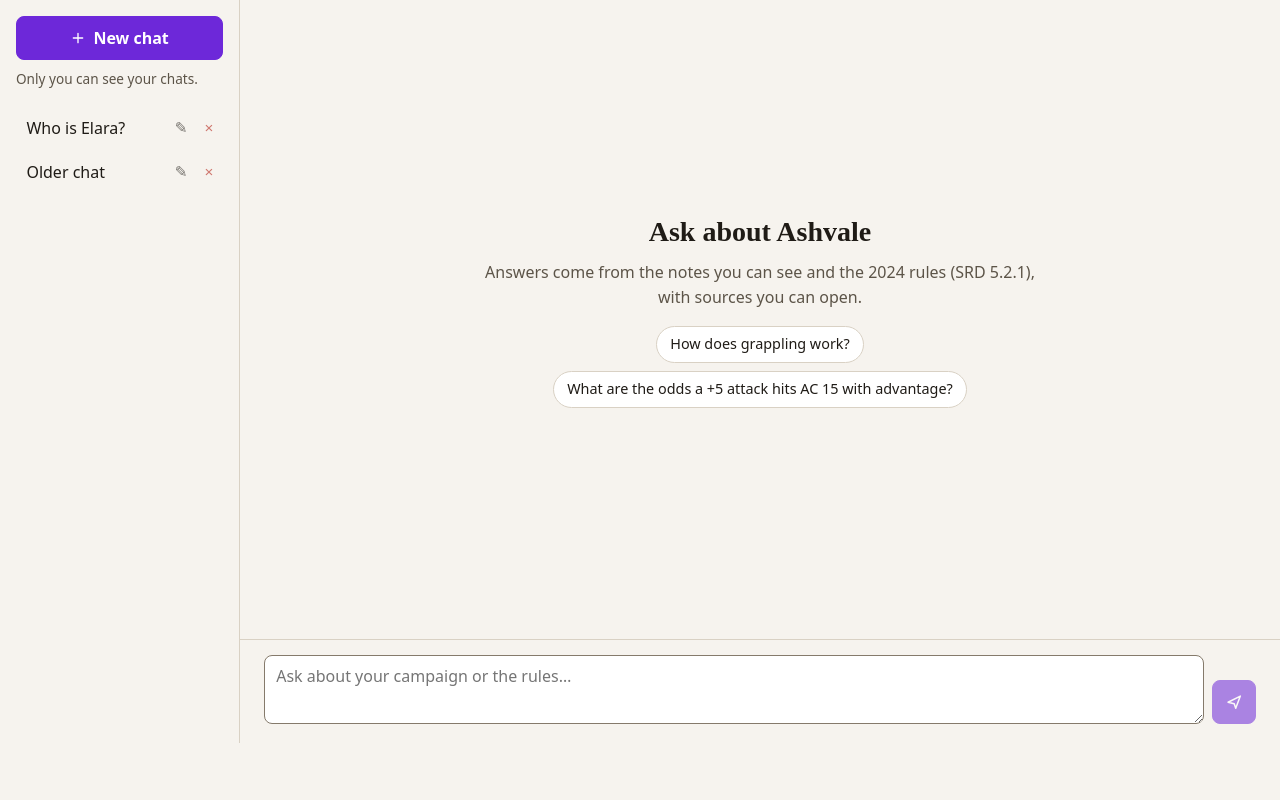
it: ChatPage stale responses (re-review) › C7: a pending answer in one thread doesn't block or mark another thread
This screenshot has width=1280, height=800.
In the text box named "Your question": (734, 689) x1=264 y1=655 x2=1204 y2=724, type "Who is Elara?"
Then press Enter
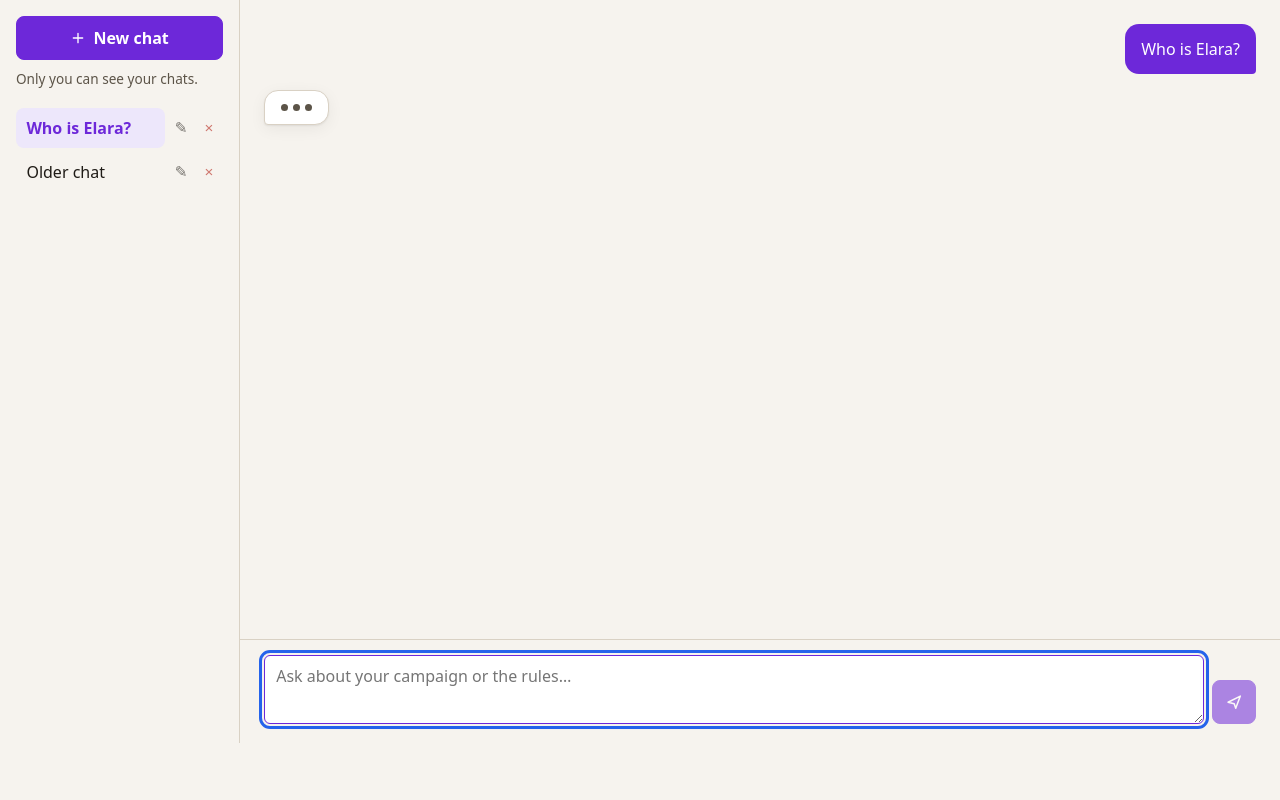
Click the button "Older chat": (90, 172) x1=16 y1=152 x2=165 y2=192
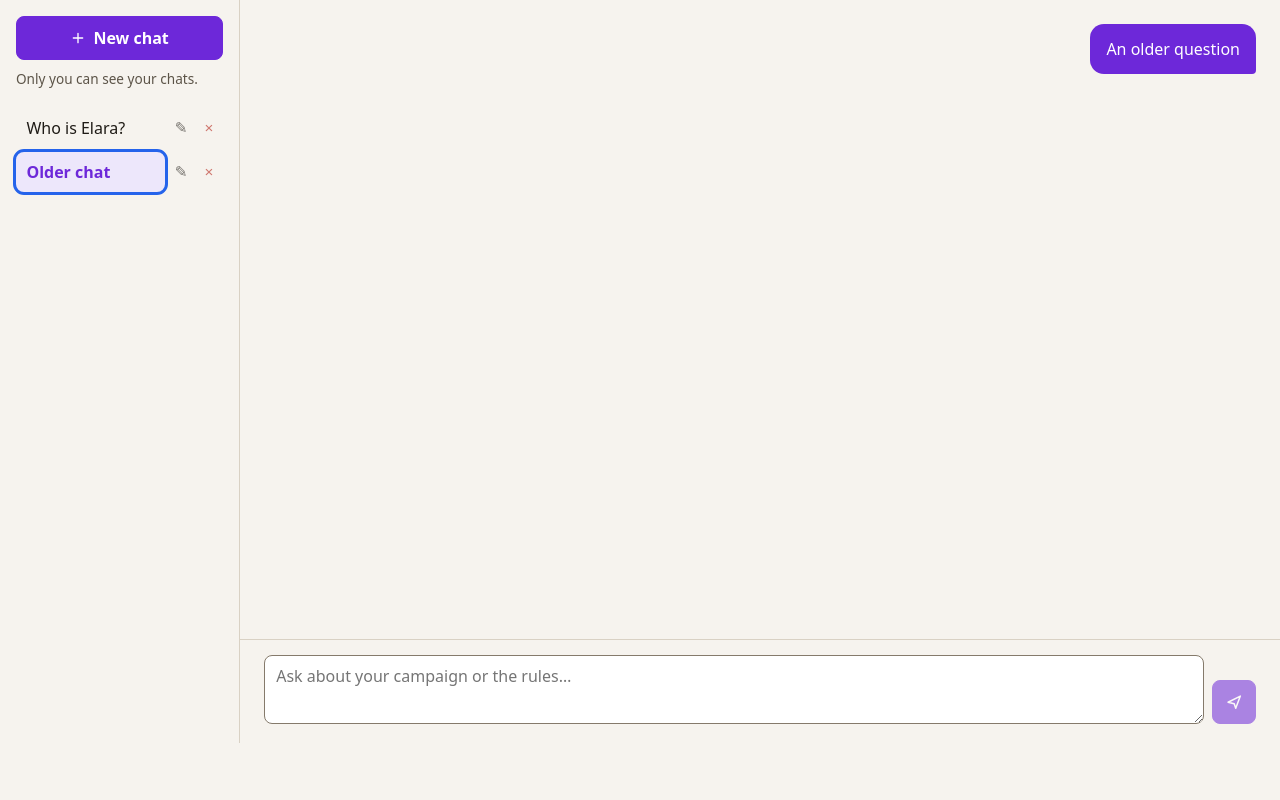
Check: the text "An older question" is shown, box x1=1106 y1=37 x2=1240 y2=62
Check: the element with class "thinking" is gone
In the text box named "Your question": (734, 689) x1=264 y1=655 x2=1204 y2=724, type "Next"
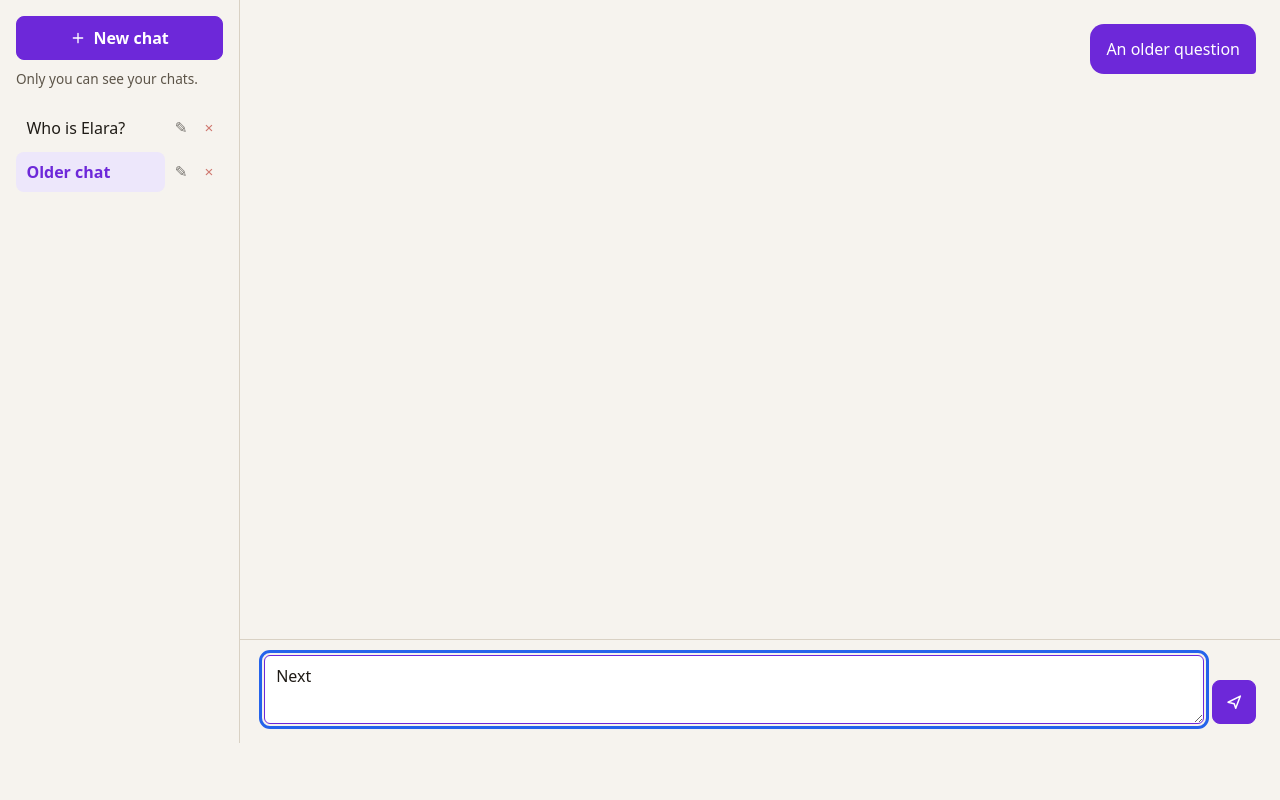
Check: the button named "Send" is enabled, box x1=1212 y1=680 x2=1256 y2=724
